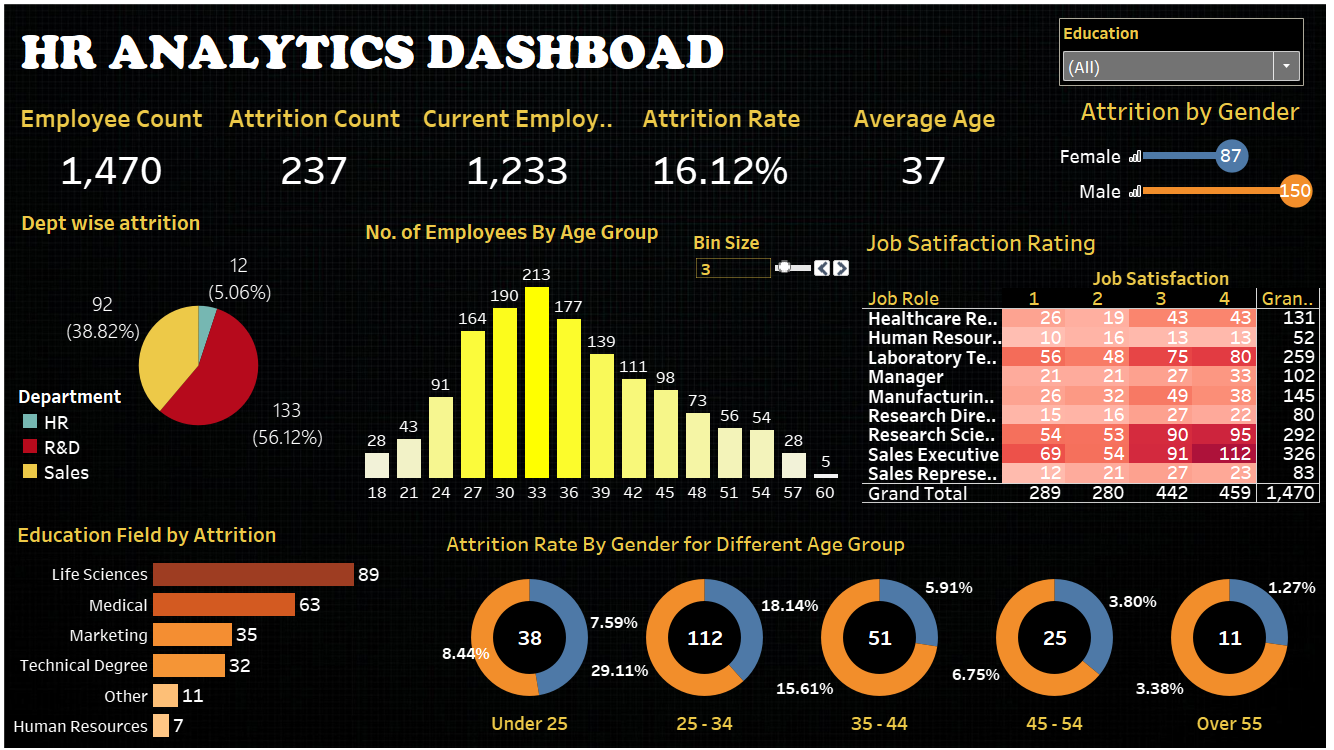

The page's visual inventory and layout, read from the dashboard file:
{"tool":"tableau","page":{"name":"Dashboard 1","canvas":[1366,768],"ordinal":0},"visuals":[{"type":"image","box":[8,8,1350,752]},{"type":"text","box":[35,14,784,91]},{"type":"filter","title":"No. of Employees By Age Group","param":"[federated.10jspk6079h1d3100oc9b18ndwf3].[none:Education:nk]","box":[1077,26,245,68]},{"type":"worksheet","title":"Attrition by gender","mark":"Automatic","rows":["Gender"],"cols":["Calculation_153966862922485760","Calculation_153966862922485760"],"box":[1077,98,262,118]},{"type":"worksheet","title":"KPI","mark":"Automatic","box":[28,102,1016,110]},{"type":"worksheet","title":"Dept wise attrition","mark":"Pie","box":[35,212,363,281]},{"type":"worksheet","title":"No. of Employees By Age Group","mark":"Bar","rows":["Employee Count"],"cols":["Age (bin)"],"box":[379,221,481,291]},{"type":"worksheet","title":"Job Satifaction Rating","mark":"Square","rows":["Job Role"],"cols":["Job Satisfaction"],"box":[880,231,459,280]},{"type":"parameter","param":"[Parameters].[Parameter 1]","box":[711,237,159,72]},{"type":"legend","title":"Dept wise attrition","param":"[federated.10jspk6079h1d3100oc9b18ndwf3].[none:Department:nk]","box":[36,391,128,101]},{"type":"worksheet","title":"Education Field by Attrition","mark":"Automatic","rows":["Education Field"],"cols":["Calculation_153966862922485760"],"box":[31,524,382,225]},{"type":"worksheet","title":"Attrition Rate By Gender for Different Age Group","mark":"Pie","rows":["Calculation_153966863006384133","Calculation_153966863006384133"],"cols":["CF_age band"],"box":[460,533,875,211]}]}

Visuals, with their boxes in screenshot pixels (x1, y1, x2, y2), scaled from the page's 1366x768 canvas onto the 1334x750 screenshot:
image: left=8, top=8, right=1326, bottom=742
text: left=34, top=14, right=800, bottom=103
"No. of Employees By Age Group" filter: left=1052, top=25, right=1291, bottom=92
"Attrition by gender" worksheet: left=1052, top=96, right=1308, bottom=211
"KPI" worksheet: left=27, top=100, right=1020, bottom=207
"Dept wise attrition" worksheet (Pie marks): left=34, top=207, right=389, bottom=481
"No. of Employees By Age Group" worksheet (Bar marks): left=370, top=216, right=840, bottom=500
"Job Satifaction Rating" worksheet (Square marks): left=859, top=226, right=1308, bottom=499
parameter: left=694, top=231, right=850, bottom=302
"Dept wise attrition" legend: left=35, top=382, right=160, bottom=480
"Education Field by Attrition" worksheet: left=30, top=512, right=403, bottom=731
"Attrition Rate By Gender for Different Age Group" worksheet (Pie marks): left=449, top=521, right=1304, bottom=727
